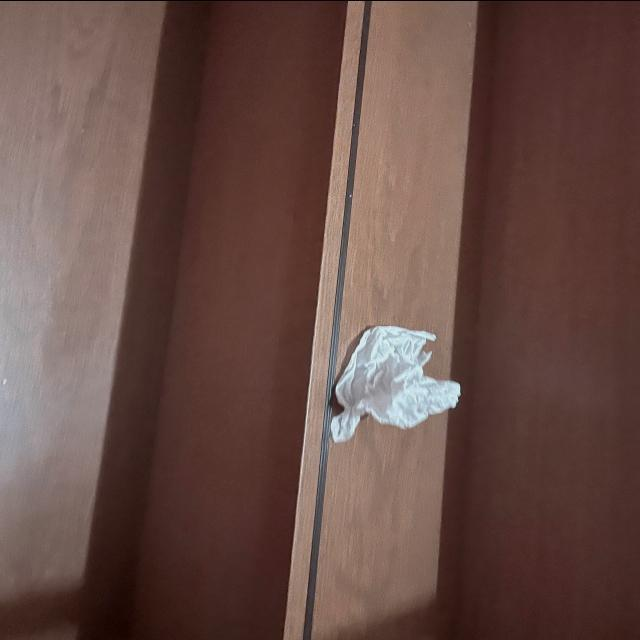Paper: (330, 312, 462, 438)
